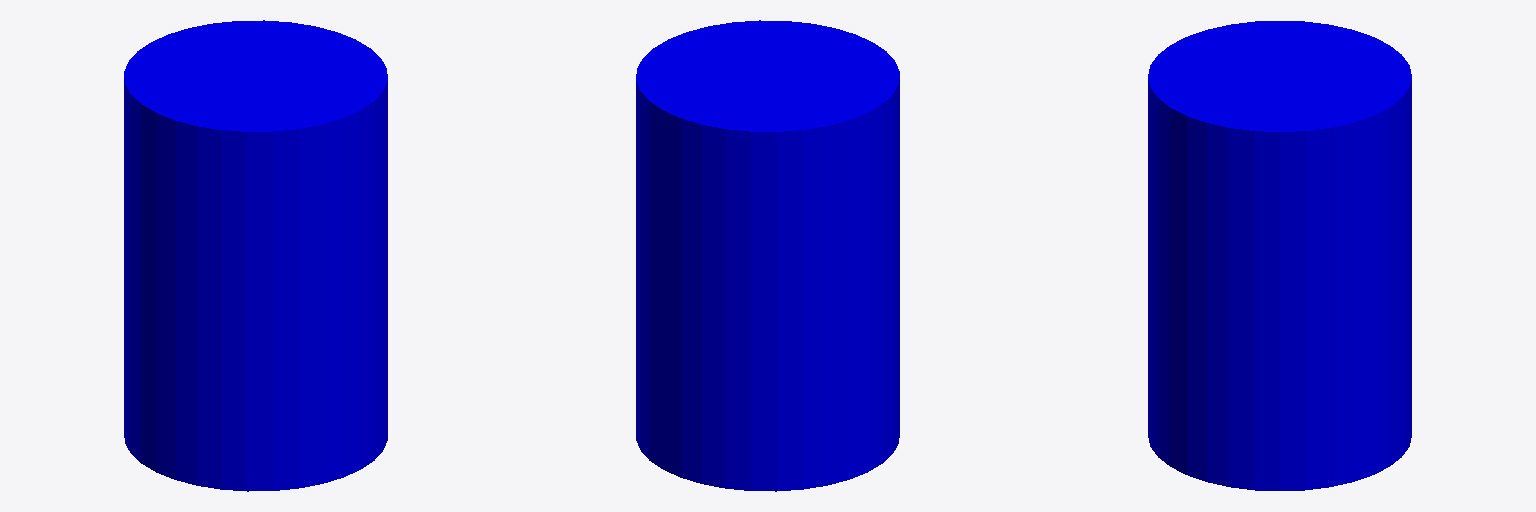
robot.urdf — myfirst:
<?xml version="1.0"?>
<robot name="myfirst">
  <link name="base_link">
    <visual>
      <geometry>
        <cylinder length="0.6" radius="0.2"/>
      </geometry>
      <material name="blue">
        <color rgba="0 0 1 1"/>
      </material>
    </visual>
  </link>
</robot>

--- Render facts (derived) ---
3 views of the same robot in one strip: view 1: azimuth 30°, elevation 25°; view 2: azimuth 150°, elevation 25°; view 3: azimuth 270°, elevation 25° (orthographic).
Model myfirst with 1 links and 0 joints (none), rooted at base_link, posed all joints at 0.
Visible links, largest first — view 1: base_link; view 2: base_link; view 3: base_link.
Link boxes in pixels (x1,y1,x2,y2): base_link: (124,20,387,491); base_link: (636,20,899,491); base_link: (1148,21,1411,490).
Bounding box of the posed robot: 0.4 × 0.4 × 0.6 m (x, y, z).
Geometry: primitives only (box / cylinder / sphere), no mesh files.
